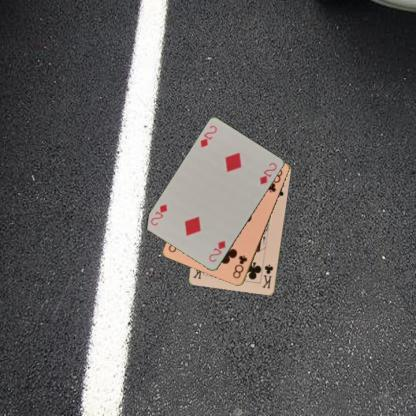2d: (206, 238, 227, 264), (198, 123, 218, 149)
8c: (230, 252, 248, 280)
Kc: (260, 262, 274, 289)
